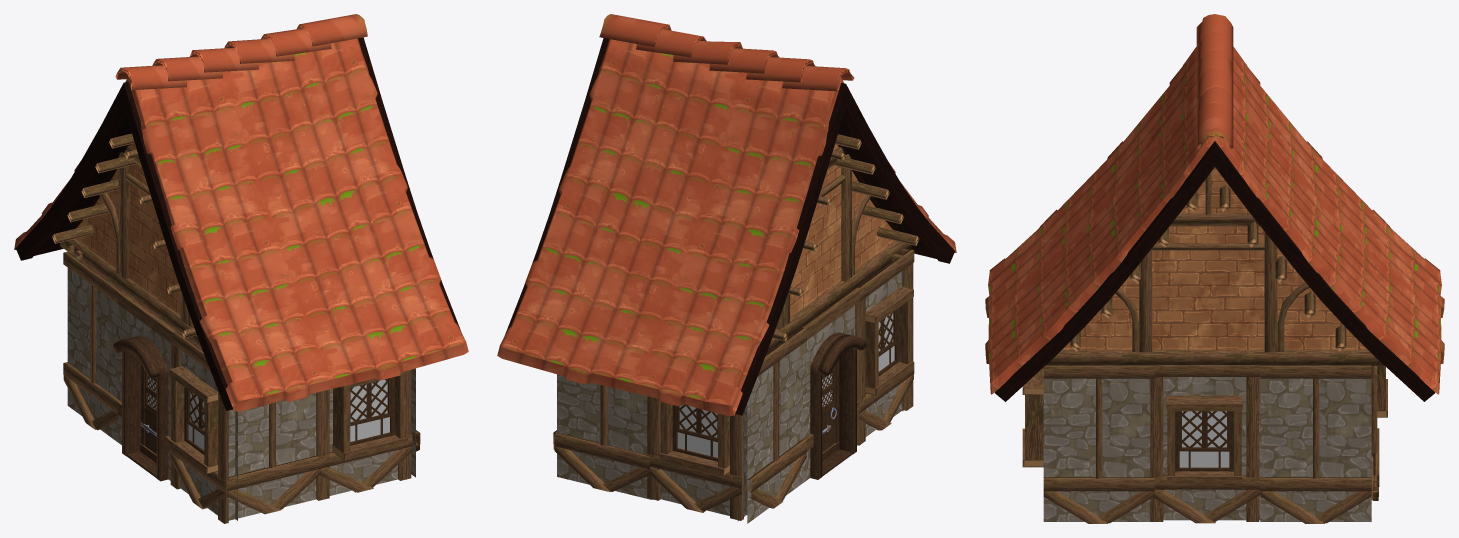
File: Casa_grande2.obj
The picture shows the model from 3 angles, left to right: view 1: azimuth 30°, elevation 25°; view 2: azimuth 150°, elevation 25°; view 3: azimuth 270°, elevation 25°; orthographic projection.
Visible parts, largest first — view 1: StaticMeshActor_127, StaticMeshActor_125, StaticMeshActor_117, StaticMeshActor_115, StaticMeshActor_123, StaticMeshActor_114, StaticMeshActor_113, StaticMeshActor_129, StaticMeshActor_122, StaticMeshActor_121, StaticMeshActor_128, StaticMeshActor_119; view 2: StaticMeshActor_127, StaticMeshActor_125, StaticMeshActor_116, StaticMeshActor_115, StaticMeshActor_112, StaticMeshActor_113, StaticMeshActor_129, StaticMeshActor_130, StaticMeshActor_122, StaticMeshActor_121, StaticMeshActor_128; view 3: StaticMeshActor_127, StaticMeshActor_126, StaticMeshActor_120, StaticMeshActor_119, StaticMeshActor_118, StaticMeshActor_124, StaticMeshActor_123, StaticMeshActor_116, StaticMeshActor_130.
Part boxes in pixels (left/top/right/bottom): StaticMeshActor_127: left=14, top=14, right=468, bottom=411; StaticMeshActor_125: left=52, top=133, right=202, bottom=349; StaticMeshActor_117: left=226, top=393, right=321, bottom=520; StaticMeshActor_115: left=63, top=251, right=122, bottom=444; StaticMeshActor_123: left=332, top=370, right=408, bottom=460; StaticMeshActor_114: left=316, top=370, right=412, bottom=500; StaticMeshActor_113: left=169, top=331, right=237, bottom=523; StaticMeshActor_129: left=113, top=335, right=168, bottom=481; StaticMeshActor_122: left=169, top=366, right=217, bottom=474; StaticMeshActor_121: left=117, top=291, right=176, bottom=480; StaticMeshActor_128: left=140, top=363, right=156, bottom=462; StaticMeshActor_119: left=406, top=368, right=420, bottom=479; StaticMeshActor_127: left=497, top=14, right=956, bottom=416; StaticMeshActor_125: left=766, top=134, right=919, bottom=353; StaticMeshActor_116: left=554, top=374, right=652, bottom=499; StaticMeshActor_115: left=737, top=328, right=806, bottom=523; StaticMeshActor_112: left=646, top=396, right=747, bottom=520; StaticMeshActor_113: left=855, top=249, right=914, bottom=445; StaticMeshActor_129: left=810, top=332, right=866, bottom=479; StaticMeshActor_130: left=659, top=402, right=729, bottom=476; StaticMeshActor_122: left=865, top=286, right=913, bottom=395; StaticMeshActor_121: left=802, top=287, right=861, bottom=483; StaticMeshActor_128: left=822, top=359, right=839, bottom=461; StaticMeshActor_127: left=985, top=14, right=1444, bottom=401; StaticMeshActor_126: left=1046, top=167, right=1384, bottom=365; StaticMeshActor_120: left=1260, top=365, right=1371, bottom=523; StaticMeshActor_119: left=1043, top=365, right=1154, bottom=523; StaticMeshActor_118: left=1150, top=365, right=1260, bottom=523; StaticMeshActor_124: left=1166, top=395, right=1242, bottom=483; StaticMeshActor_123: left=1022, top=367, right=1043, bottom=467; StaticMeshActor_116: left=1371, top=366, right=1379, bottom=500; StaticMeshActor_130: left=1377, top=366, right=1387, bottom=417.
Size of the model in its own units: 519 by 807 by 826.
